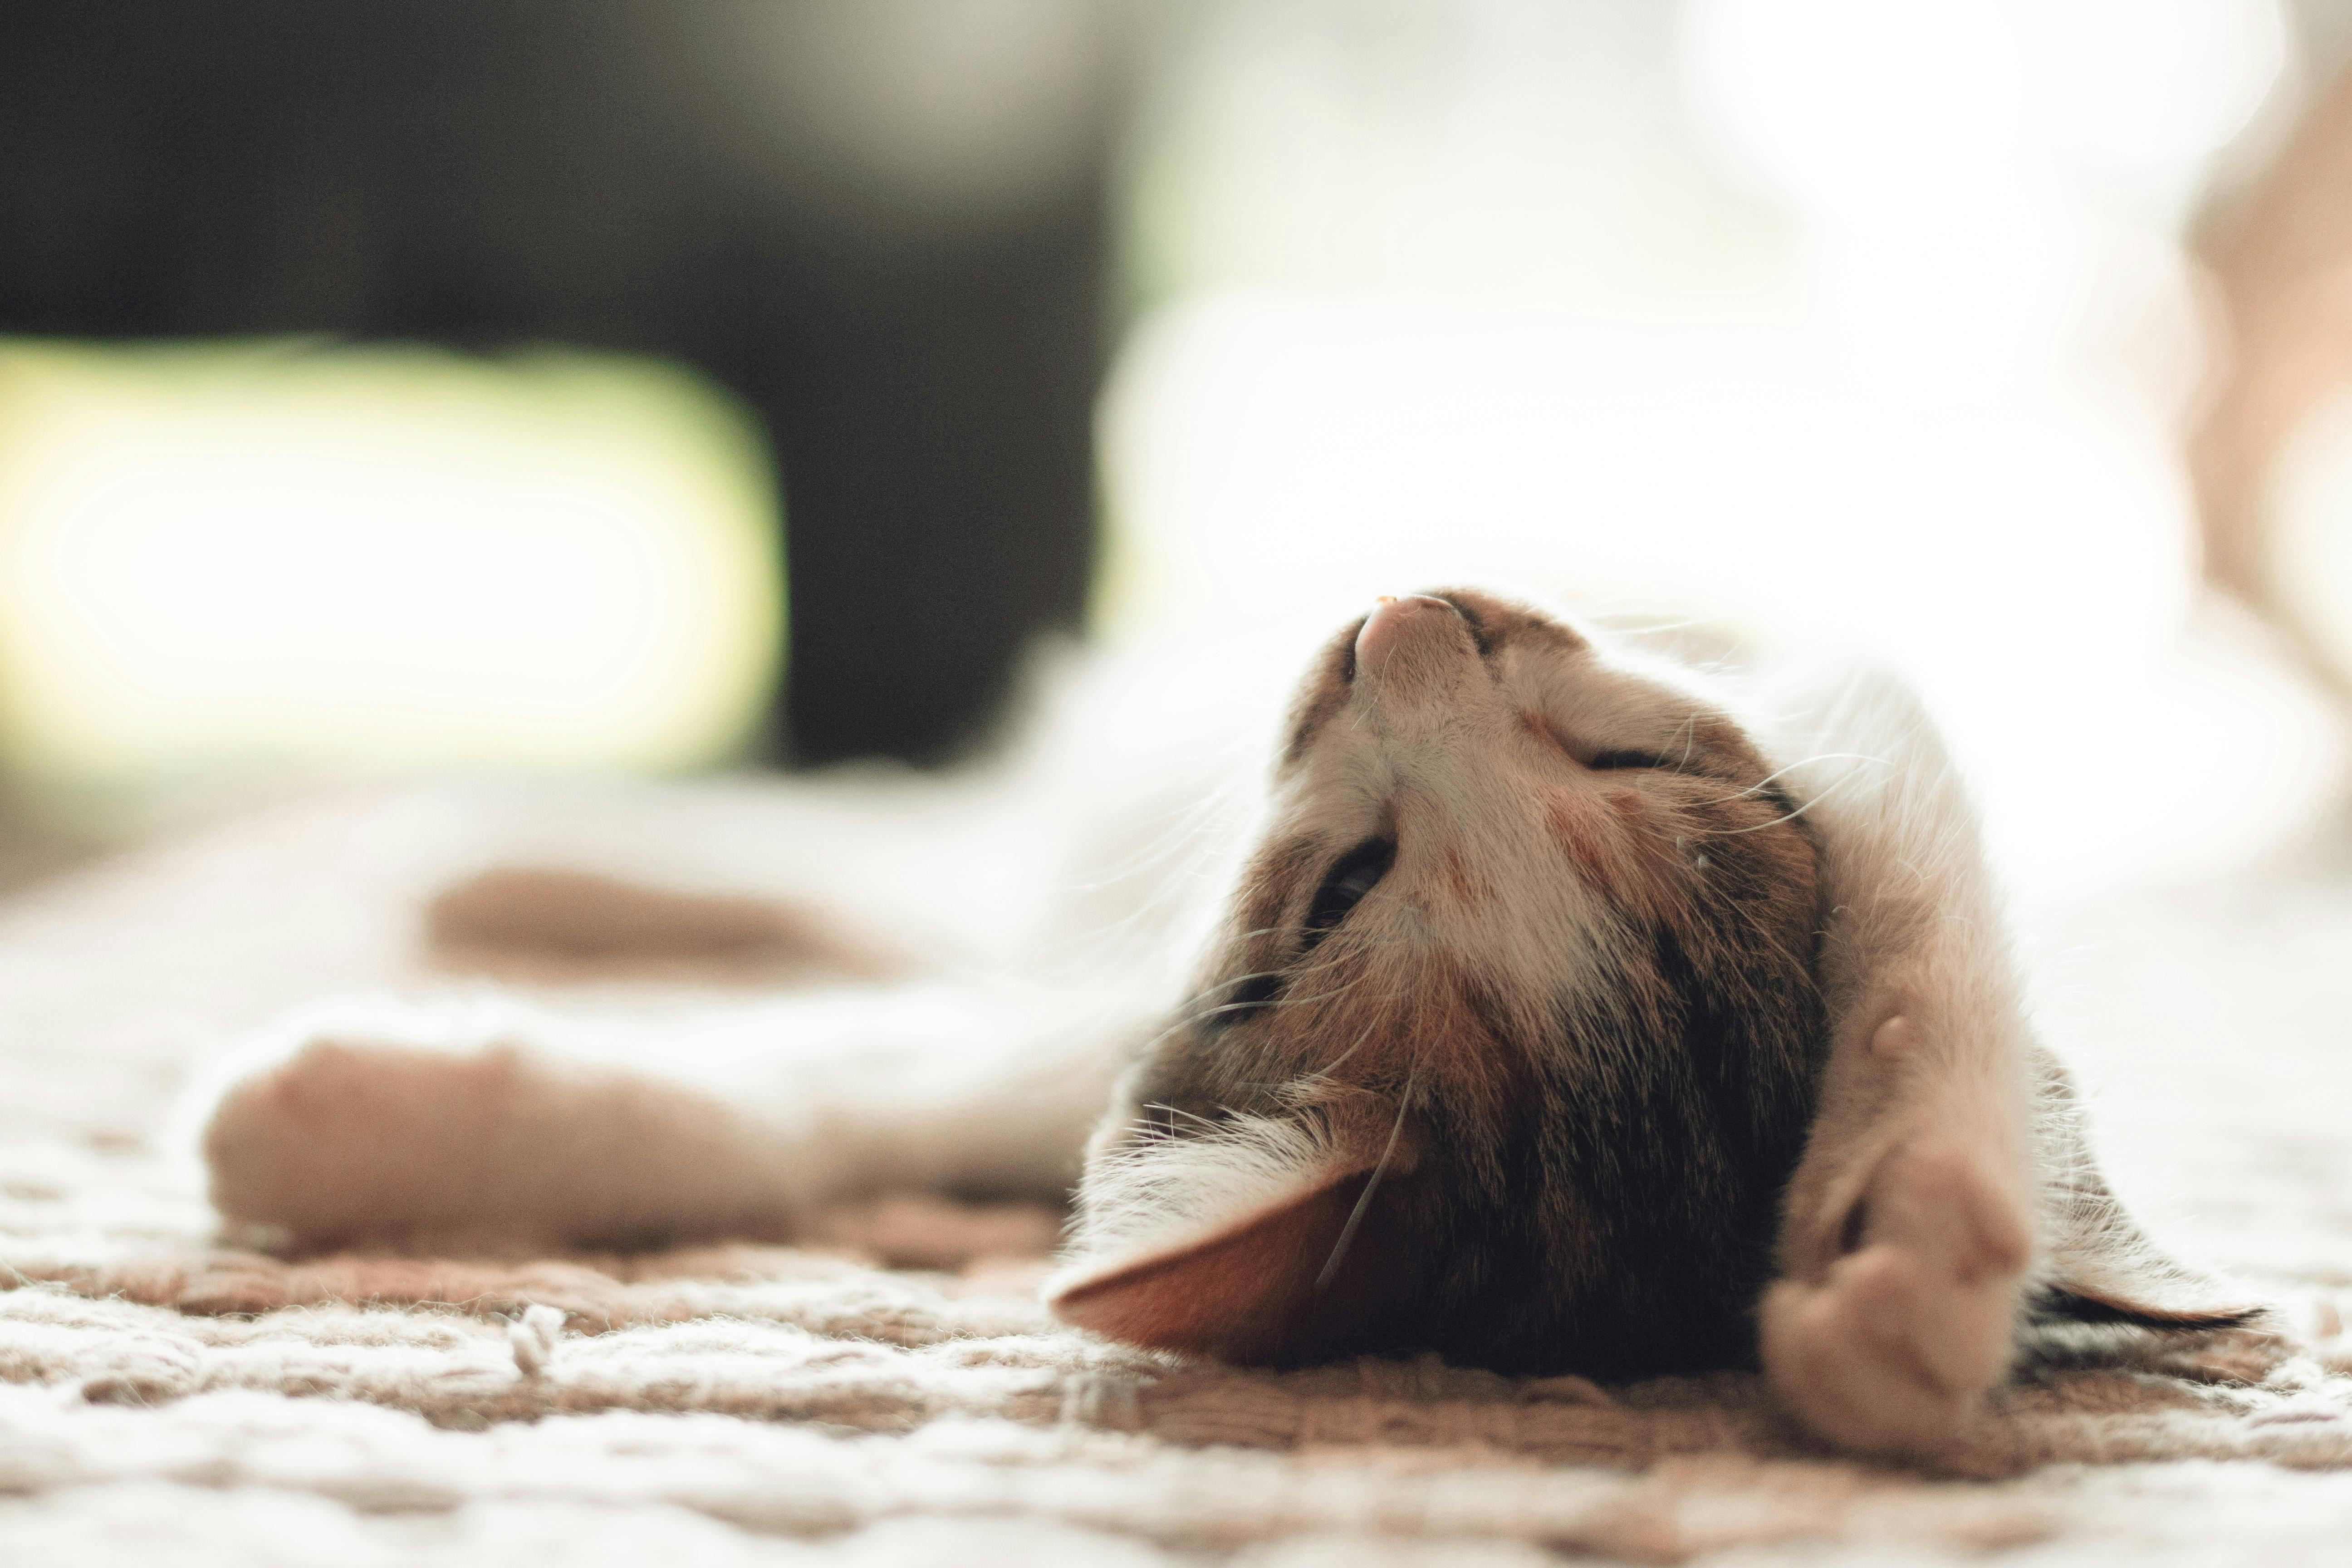kedo: (1043, 590, 2258, 1432)
